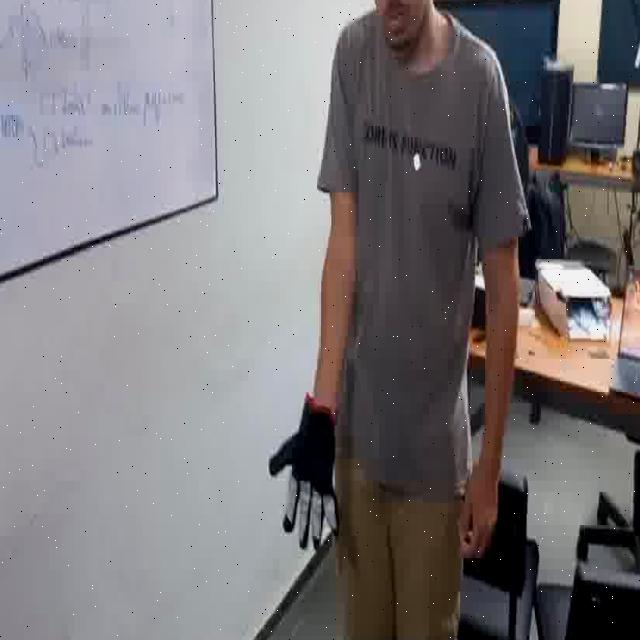Gloves: (268, 398, 341, 556)
